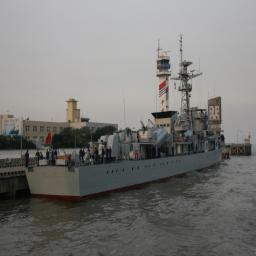Fragata: (21, 31, 227, 204)
